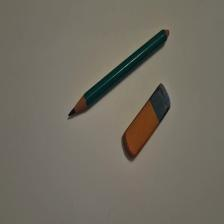eraser: (124, 83, 171, 159)
pencil: (69, 30, 170, 117)
